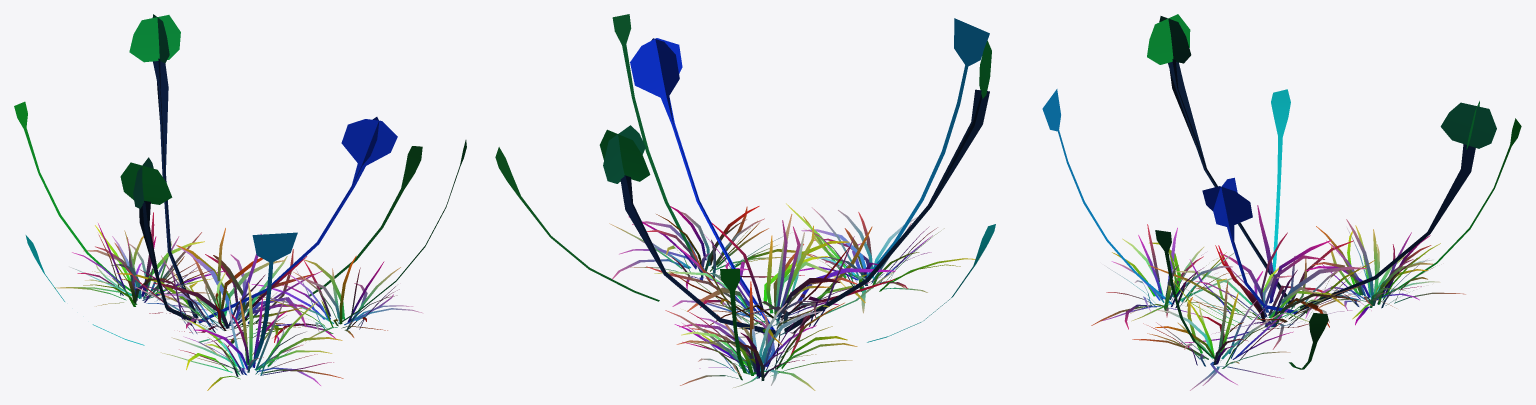
Rendered from Sea_Thrift_vkbgaihha_Mid_vkbgaihha_VarD_LOD1.fbx.
3 views of the same model, side by side, from view 1: azimuth 30°, elevation 25°; view 2: azimuth 150°, elevation 25°; view 3: azimuth 270°, elevation 25° (orthographic). The views are drawn at different scales.
Visible parts, largest first — view 1: _9pyo_VarD_LOD2; view 2: _9pyo_VarD_LOD2; view 3: _9pyo_VarD_LOD2.
Part boxes in pixels (x1,y1,x2,y2): _9pyo_VarD_LOD2: (14, 14, 466, 390); _9pyo_VarD_LOD2: (495, 14, 995, 390); _9pyo_VarD_LOD2: (1042, 14, 1521, 390).
Bounding box in the file's own units: 33.41 × 18.41 × 33.55.
